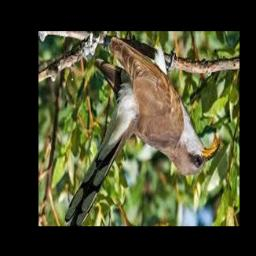Cuckoo: (65, 38, 221, 226)
